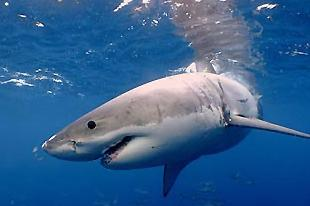Shark -Selachimorpha-: (39, 56, 310, 193)
